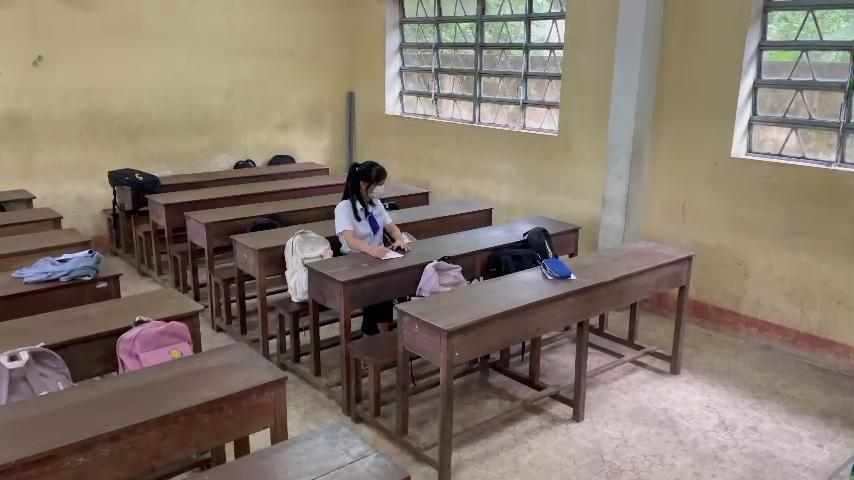Look Around: (335, 153, 395, 201)
